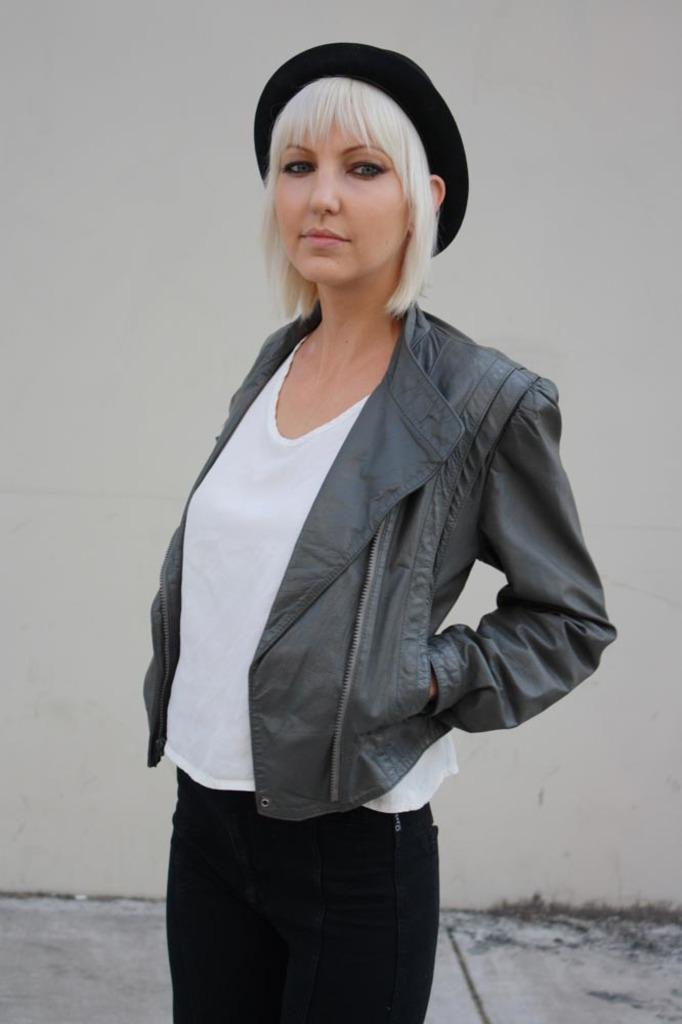Hat: (250, 41, 470, 259)
